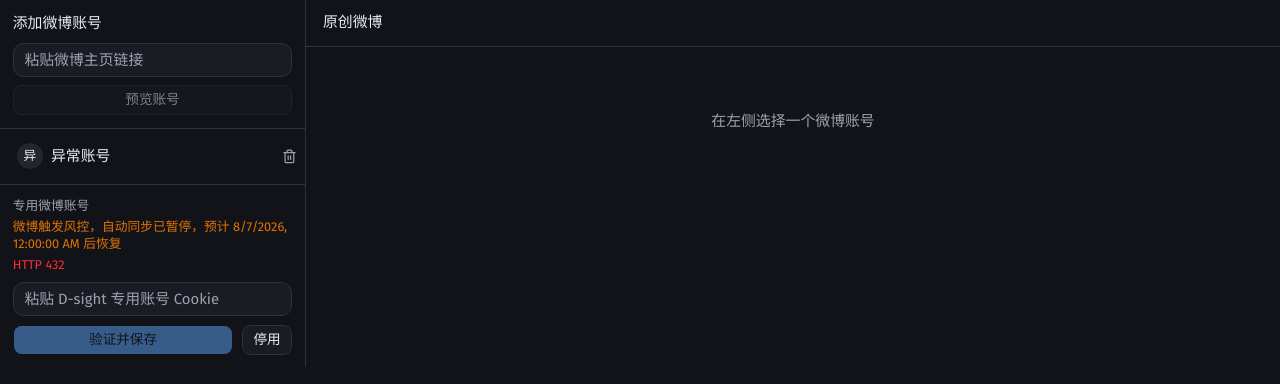
Test case: WeiboTab › 展示所选账号的同步错误而不是吞成空状态
Click the text "异常账号": click(81, 156) left=51, top=146, right=110, bottom=167
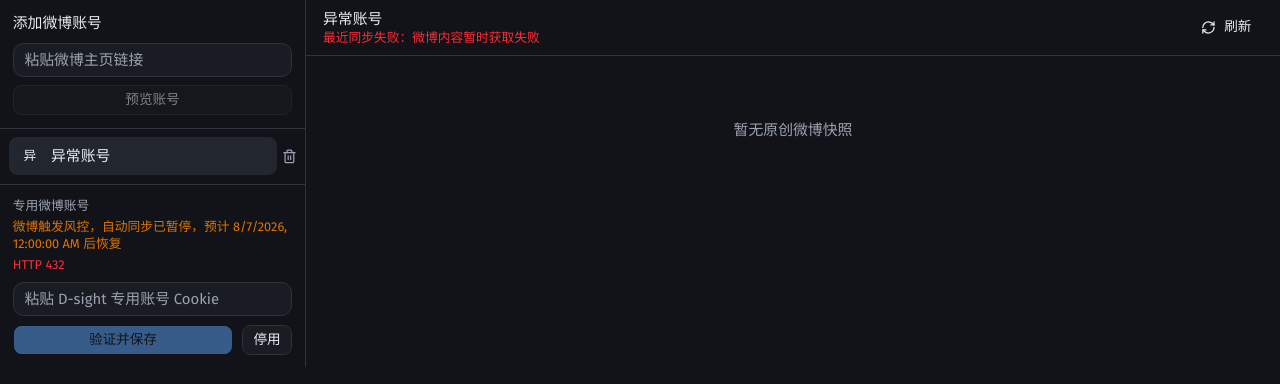
Expected: the text "最近同步失败：微博内容暂时获取失败" is shown, left=323, top=30, right=540, bottom=47
